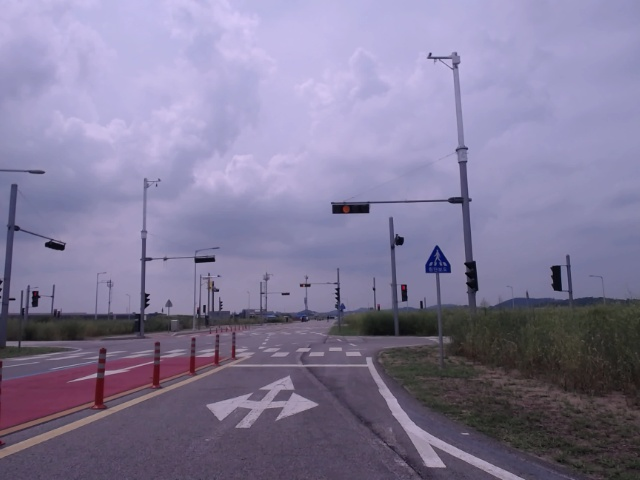orange_4: (331, 202, 372, 216), (299, 282, 312, 288)
